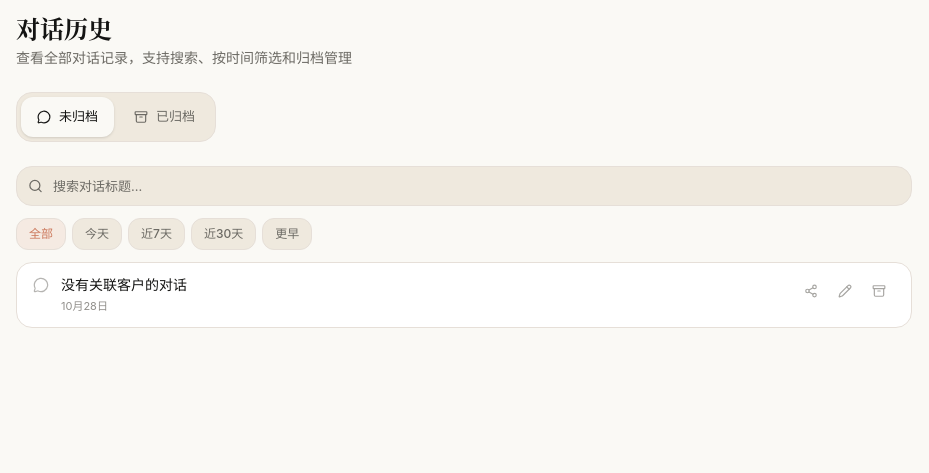
conversation archive management › reconciles an open archive list after confirmation when the server lists the row early: false
Click the button named "归档对话": (879, 291) [863,275,895,307]
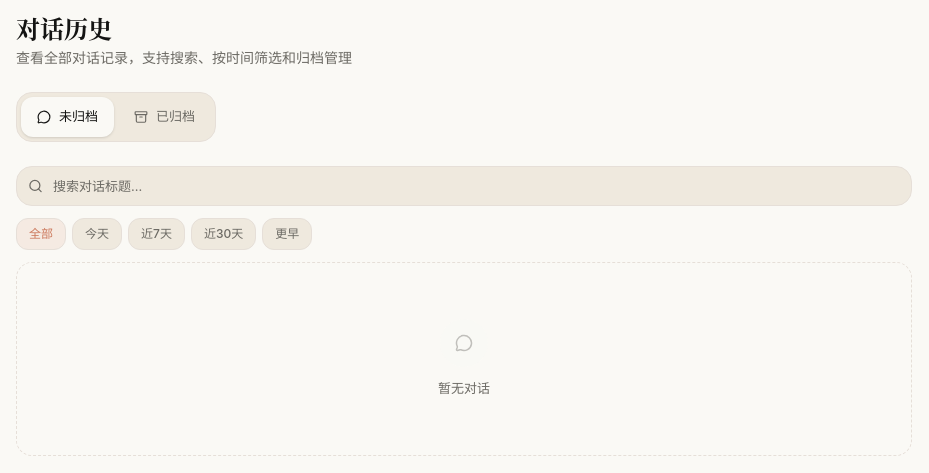
Click the button "已归档": (164, 117) [118,97,211,137]
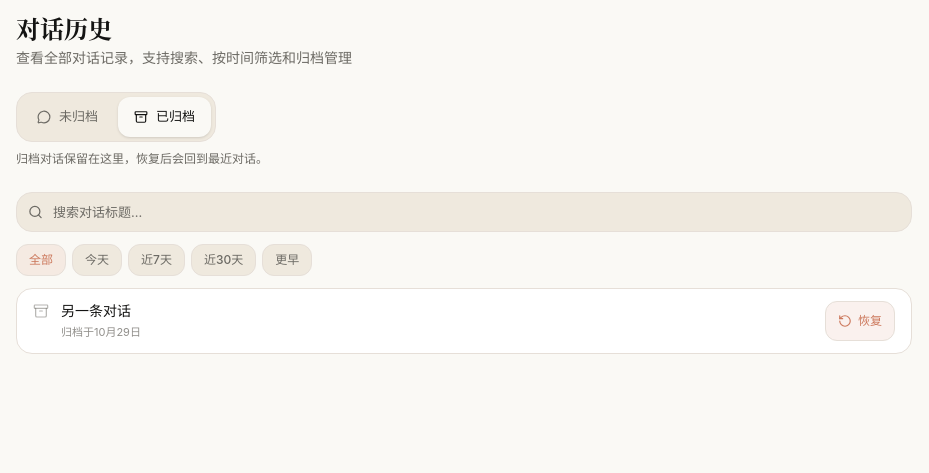
Expected: the text "没有关联客户的对话" is not shown
Expected: the text "另一条对话" is shown, [61,302,131,319]
Expected: the button "恢复" is shown
Click the button "恢复": (860, 321) [825,301,895,341]
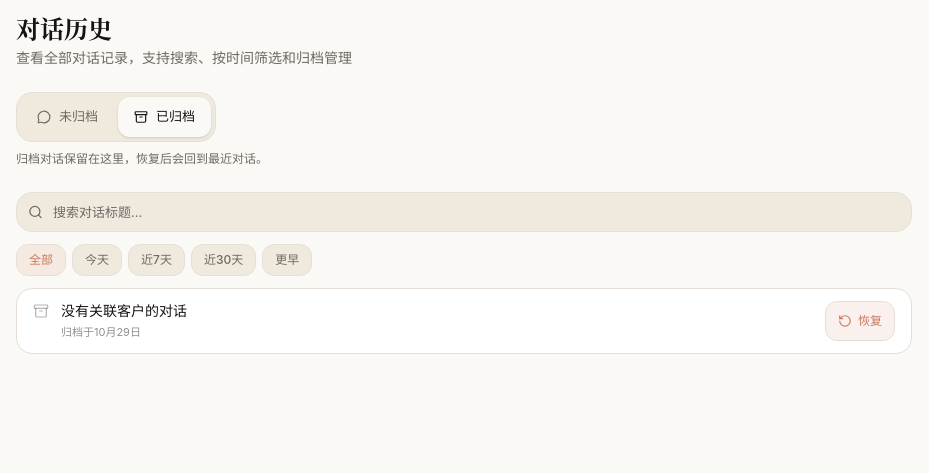
Expected: the text "没有关联客户的对话" is shown, [61,302,187,319]
Expected: the text "另一条对话" is gone
Click the button "未归档": (68, 117) [21,97,114,137]
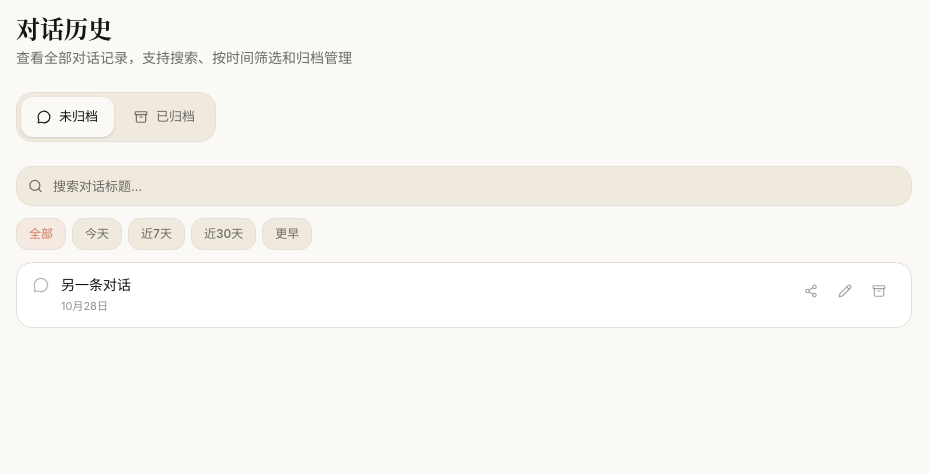
Expected: the text "另一条对话" is shown, [61,276,131,293]
Expected: the text "没有关联客户的对话" is gone
